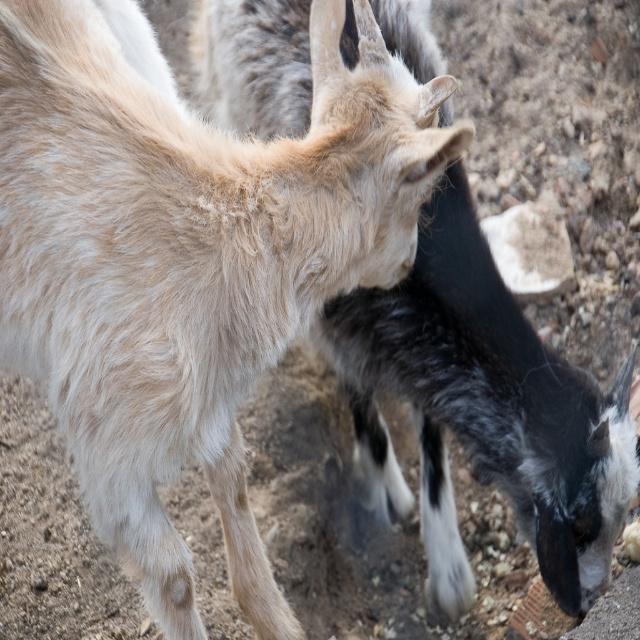Goat: (0, 0, 475, 640), (177, 0, 640, 621)
